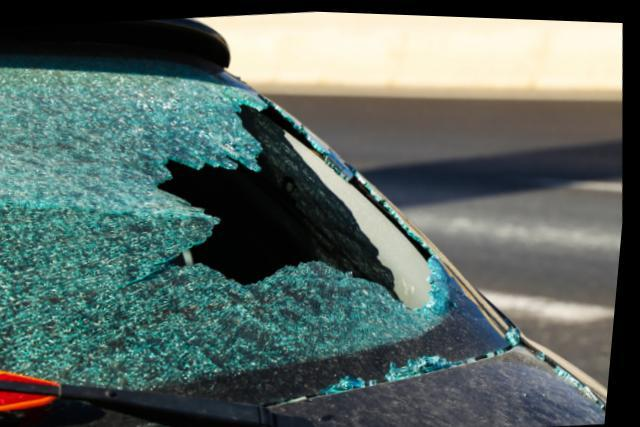glass shatter: (0, 52, 526, 403)
